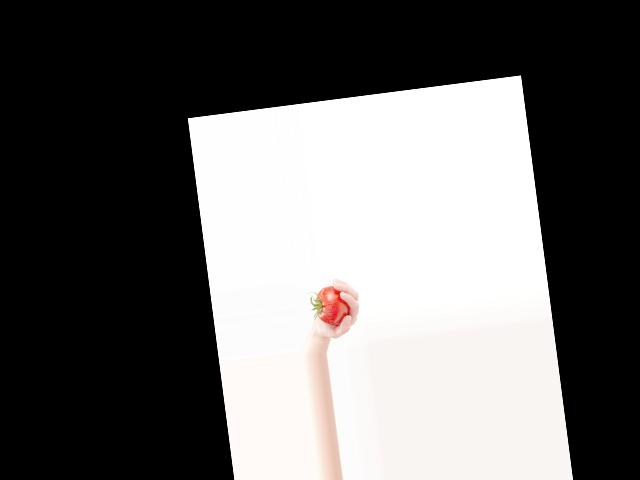tomato: (313, 284, 351, 325)
